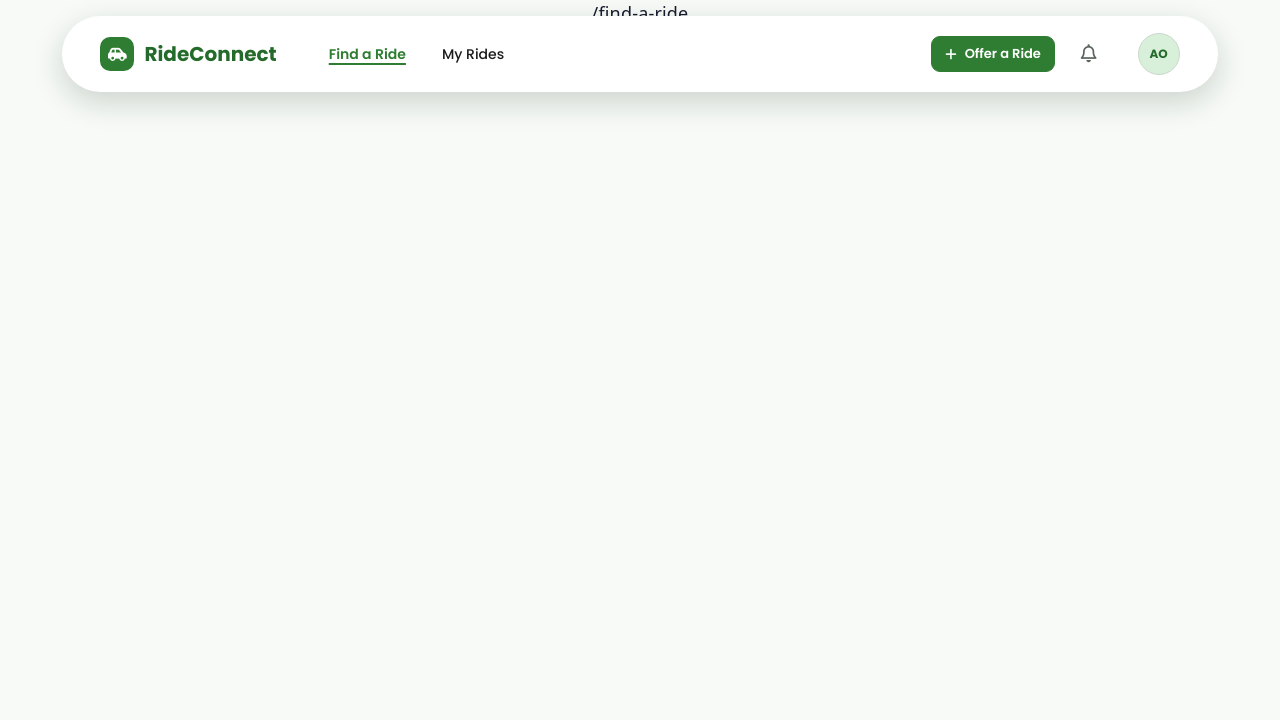
Scenario: AppHeader › opens the change-password panel from the account menu
Click the button with aria-label "Account menu". click: (1159,54)
box: top-left (1138, 33), bottom-right (1180, 75)
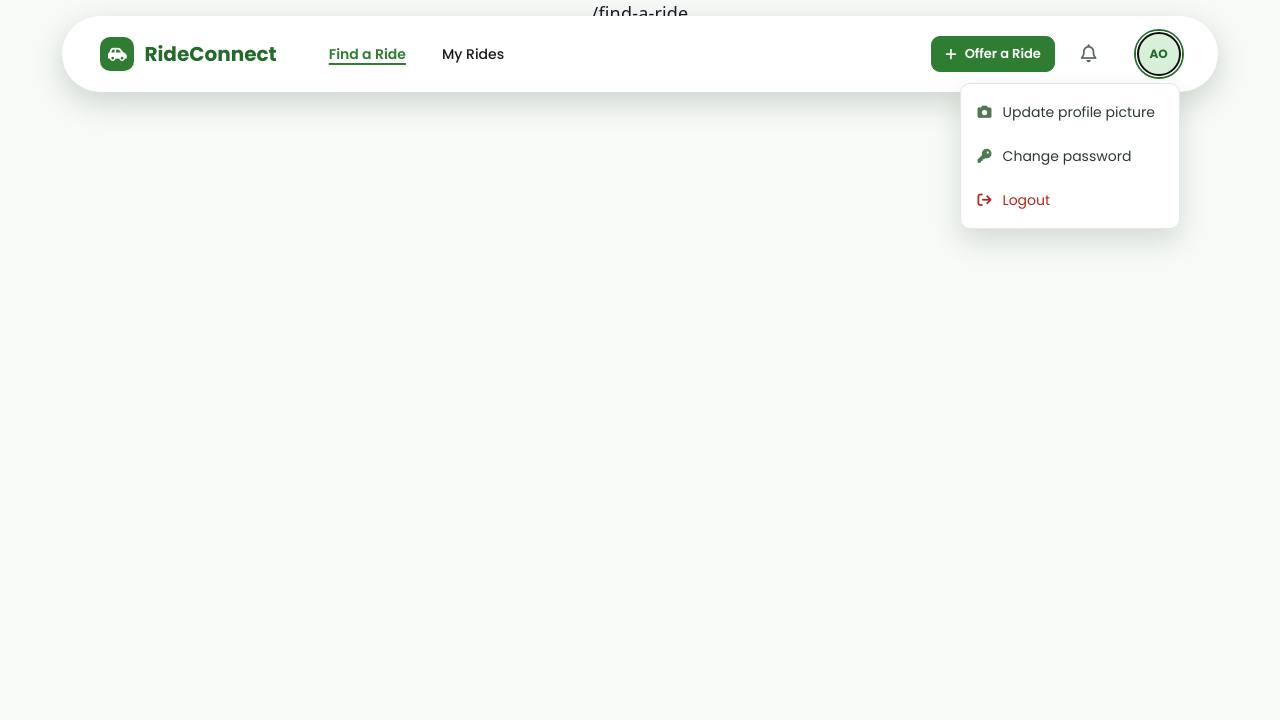
Click the menu item "Change password". click: (1070,156)
box: top-left (967, 134), bottom-right (1173, 178)
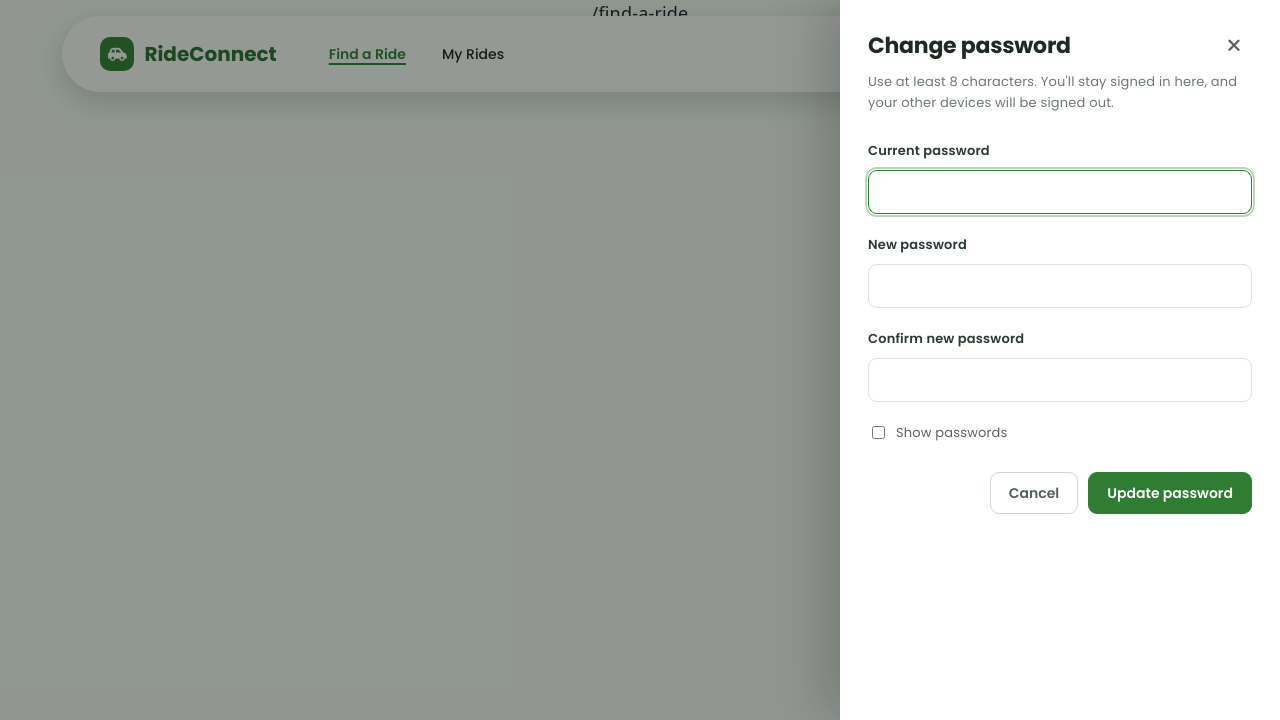
Expected: the dialog "Change password" is shown, top-left (840, 0), bottom-right (1279, 719)
Click the button "Cancel". click: (1034,493)
box: top-left (990, 472), bottom-right (1078, 514)
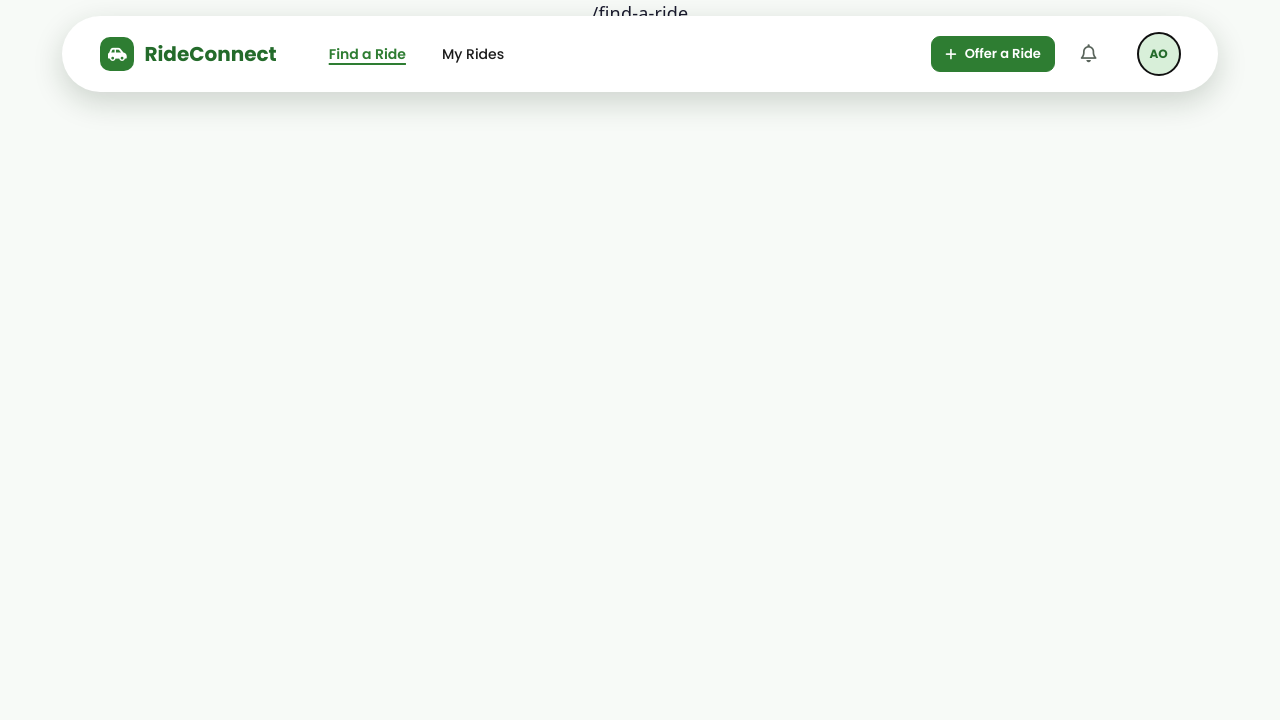
Expected: the dialog is gone
